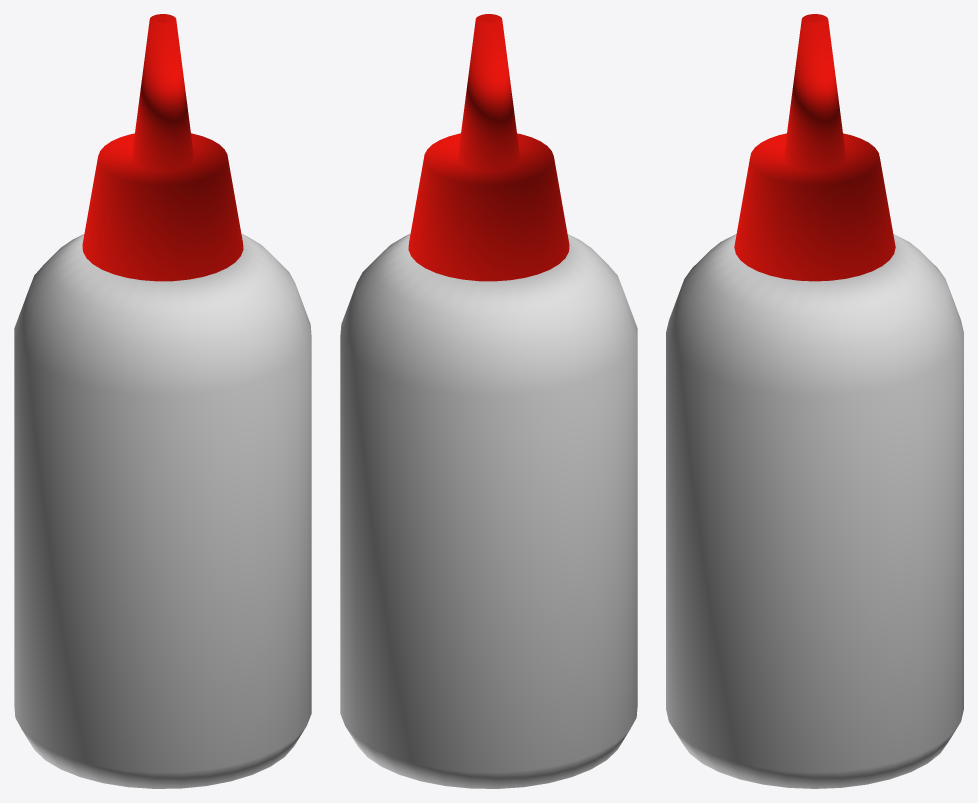
The model's file is acid.fbx.
3 views of the same model, side by side, from view 1: azimuth 30°, elevation 25°; view 2: azimuth 150°, elevation 25°; view 3: azimuth 270°, elevation 25° (orthographic).
Visible parts, largest first — view 1: Cylinder, Cylinder.001; view 2: Cylinder, Cylinder.001; view 3: Cylinder, Cylinder.001.
Boxes of the visible parts, left/top/right/bottom form: Cylinder: left=14, top=233, right=311, bottom=788; Cylinder.001: left=82, top=14, right=243, bottom=281; Cylinder: left=340, top=233, right=637, bottom=788; Cylinder.001: left=408, top=14, right=569, bottom=281; Cylinder: left=666, top=234, right=963, bottom=788; Cylinder.001: left=734, top=14, right=895, bottom=281.
Bounding box in the file's own units: 8.42 × 22.22 × 8.42.
